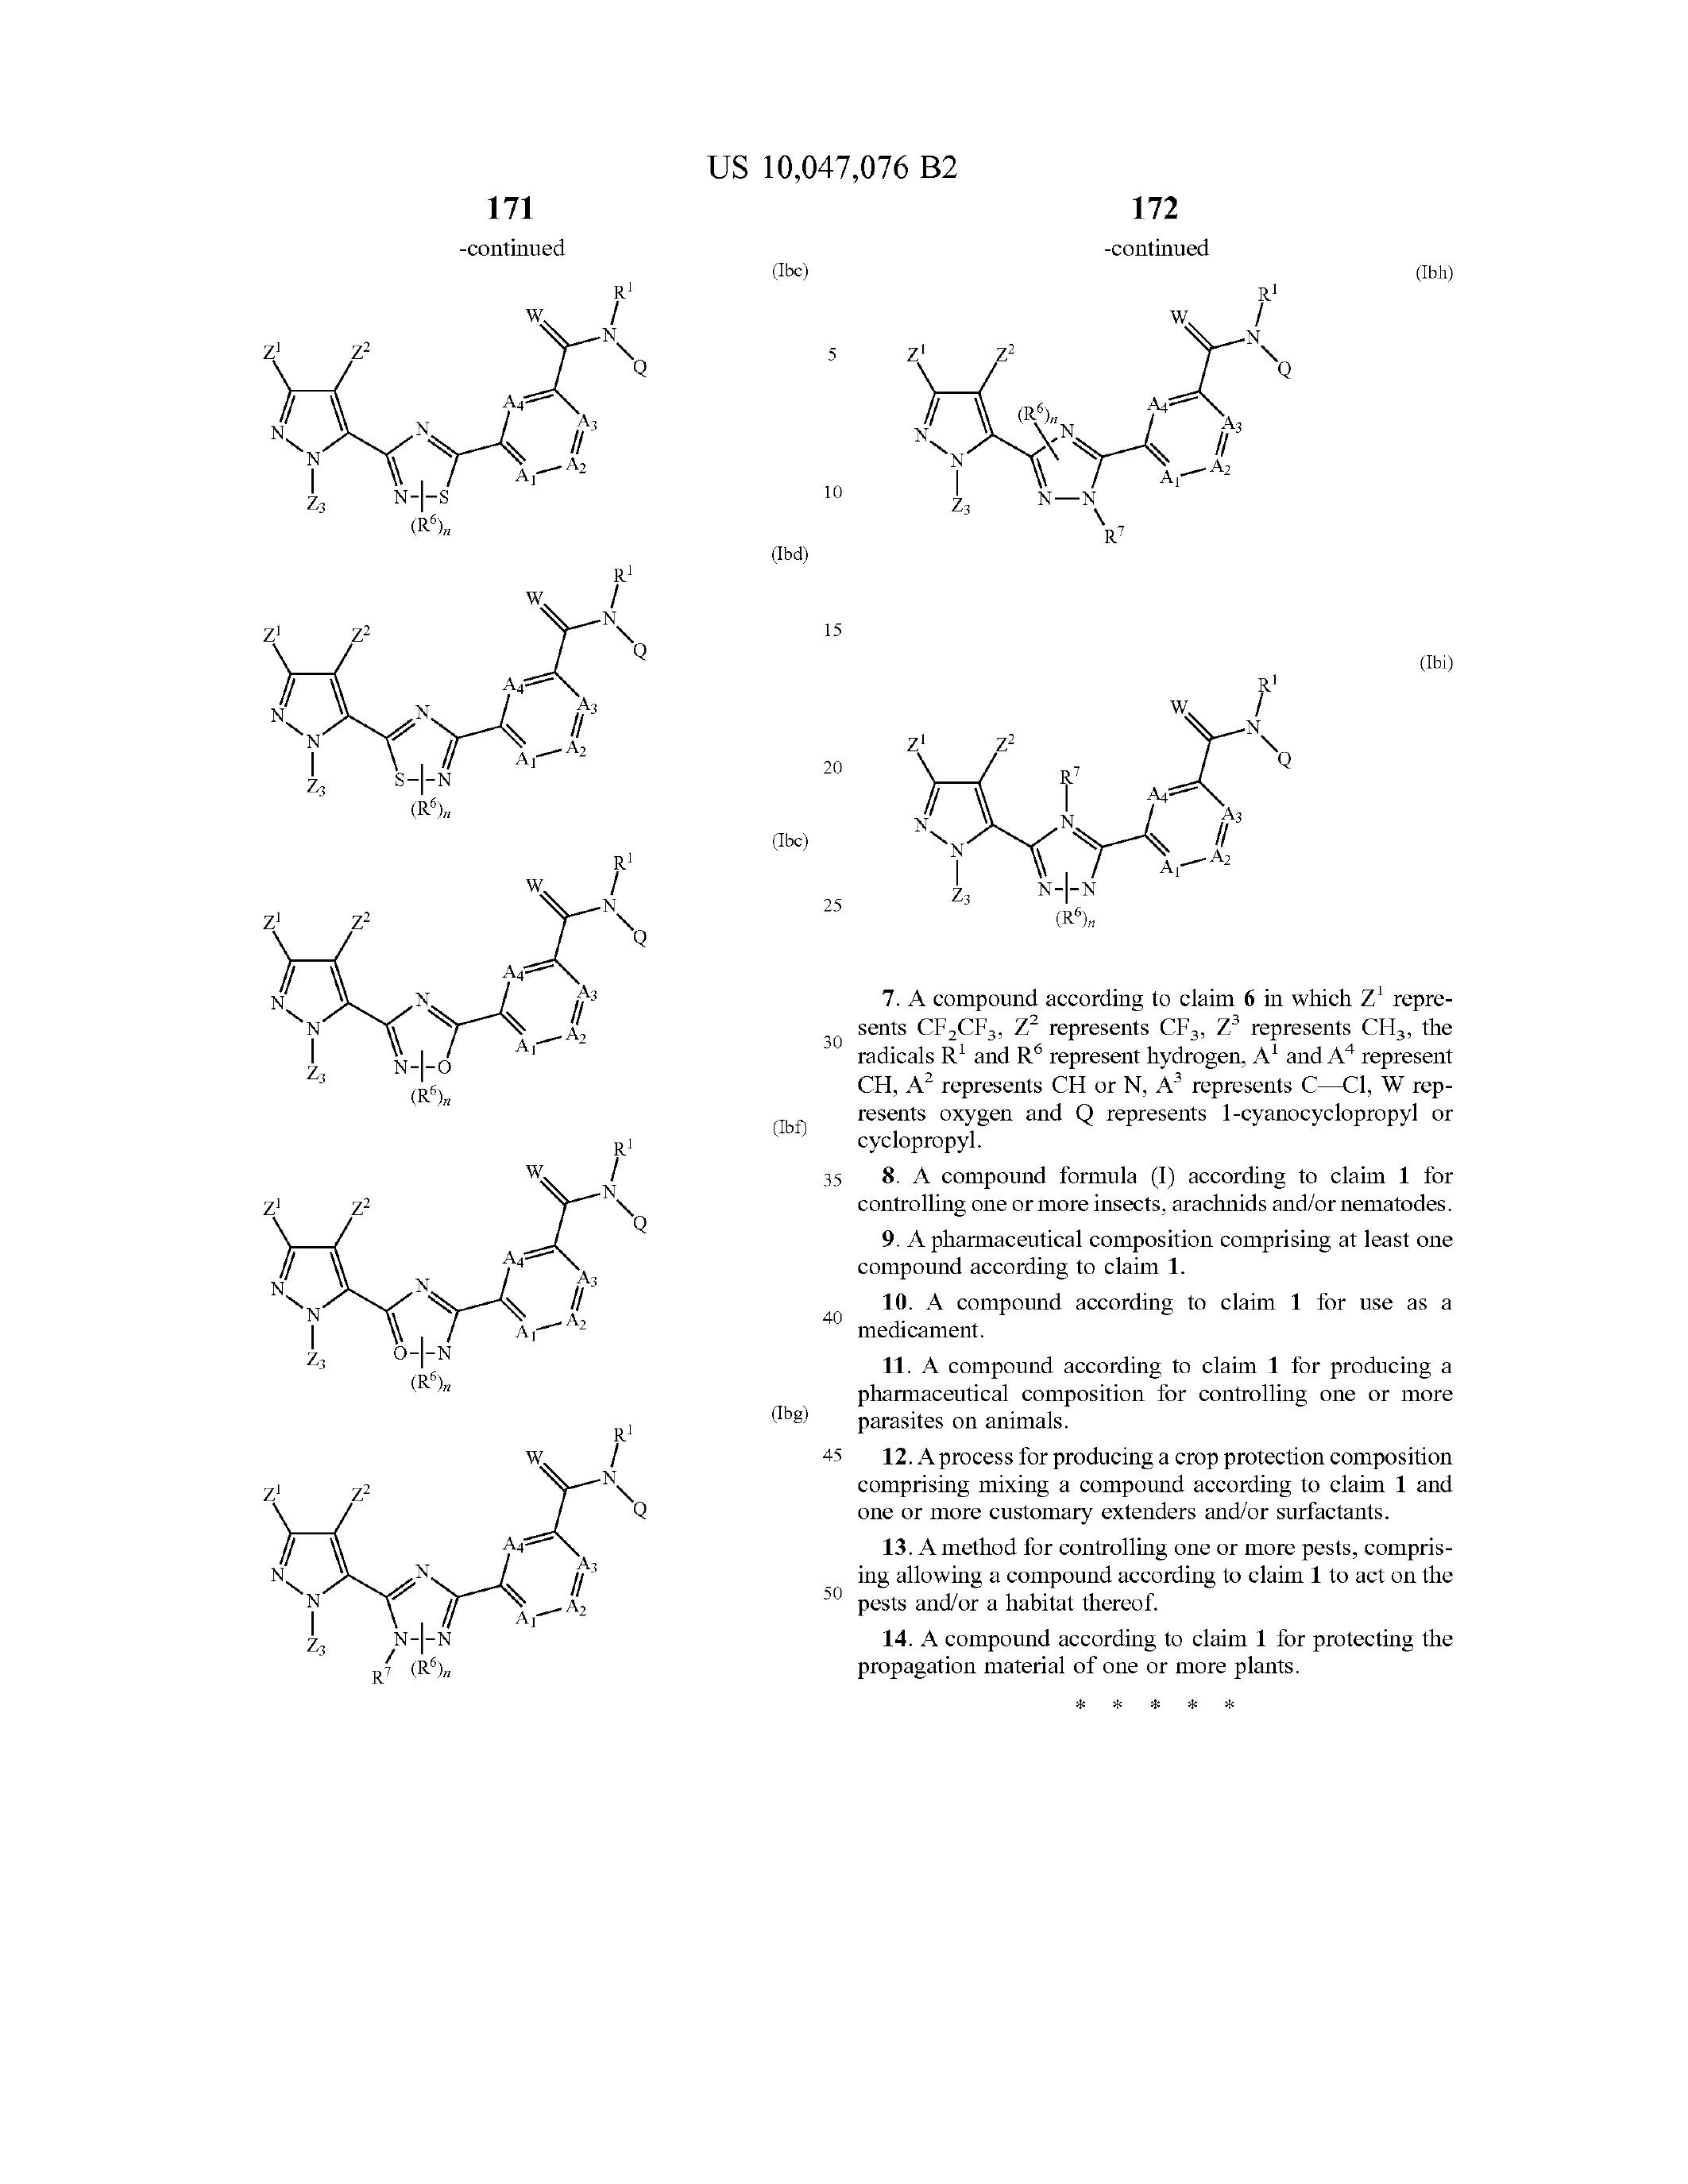markush-structures: (365, 667, 491, 830)
